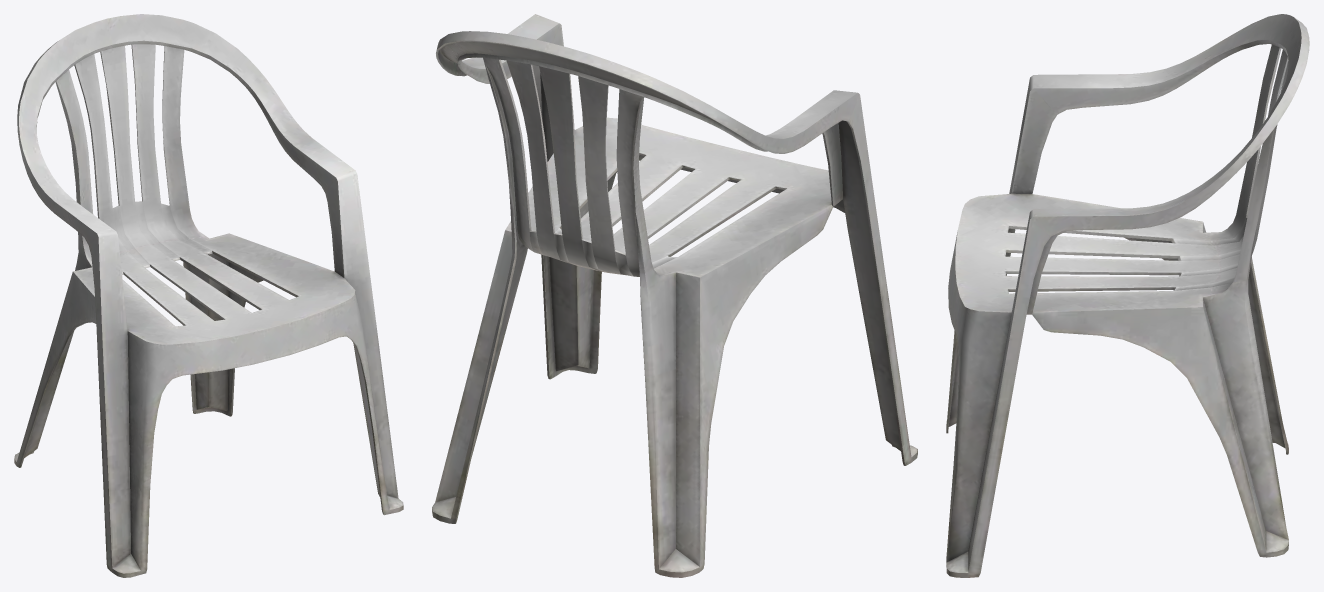
Rendered from monobloc_chair.glb.
3 views of the same model, side by side, from view 1: azimuth 30°, elevation 25°; view 2: azimuth 150°, elevation 25°; view 3: azimuth 270°, elevation 25° (orthographic). The views are drawn at different scales.
Parts seen in each view (by area): view 1: monobloc_chair; view 2: monobloc_chair; view 3: monobloc_chair.
Part boxes in pixels (x1,y1,x2,y2): monobloc_chair: (14, 14, 403, 577); monobloc_chair: (432, 14, 917, 577); monobloc_chair: (946, 14, 1309, 577).
Bounding box in the file's own units: 0.6419 × 0.8798 × 0.6276.
Materials: 1 (1 with a texture image).
